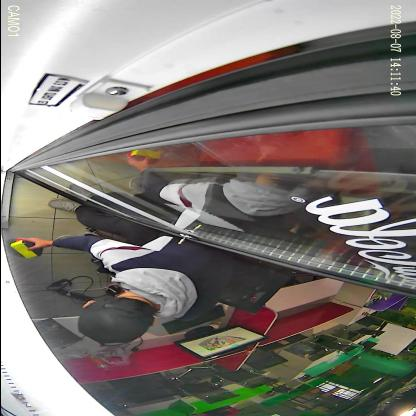red: (3, 238, 35, 250)
yellow: (6, 240, 42, 258)
